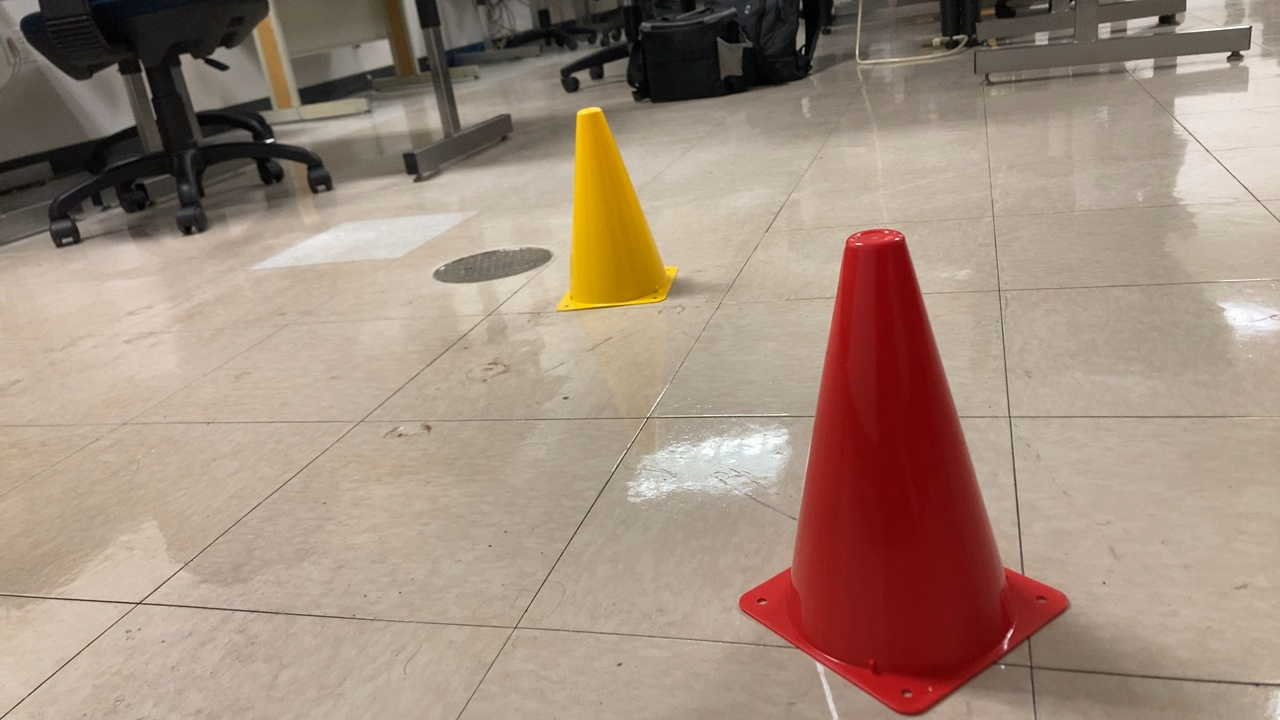red_cone: (713, 218, 1075, 717)
yellow_cone: (552, 105, 688, 313)
